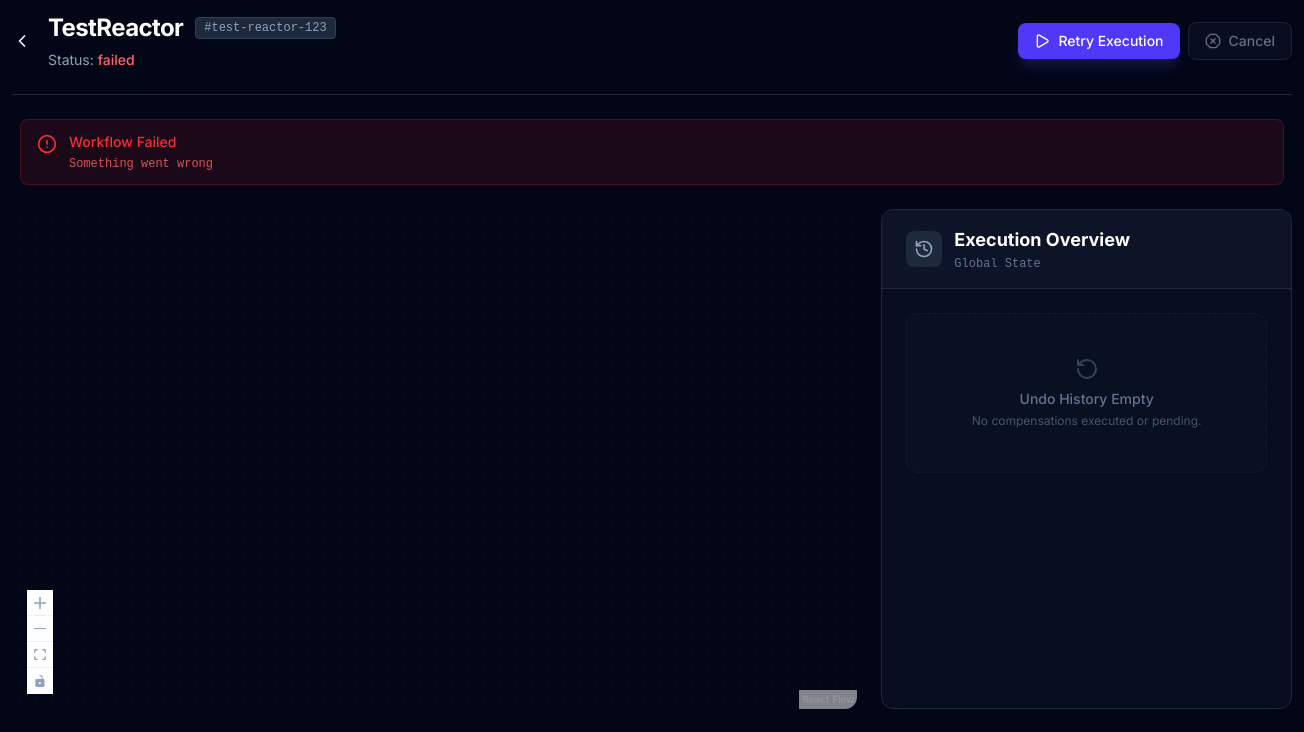
Test: ReactorDetail › shows retry errors from the API
The width and height of the screenshot is (1304, 732).
Step 1. Click the button "Retry Execution" → (1099,41), box [1018,23,1180,59]
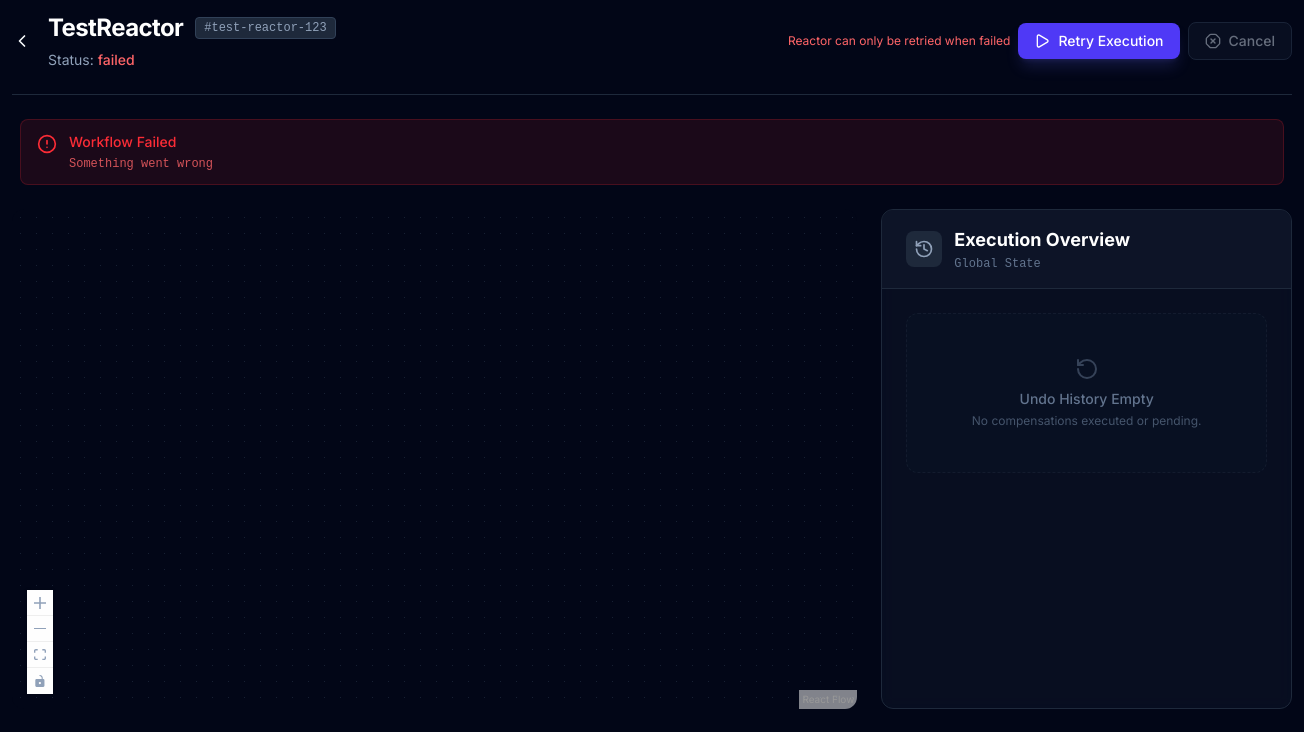
Expected: the text "Reactor can only be retried when failed" is shown, [788,33,1010,49]
